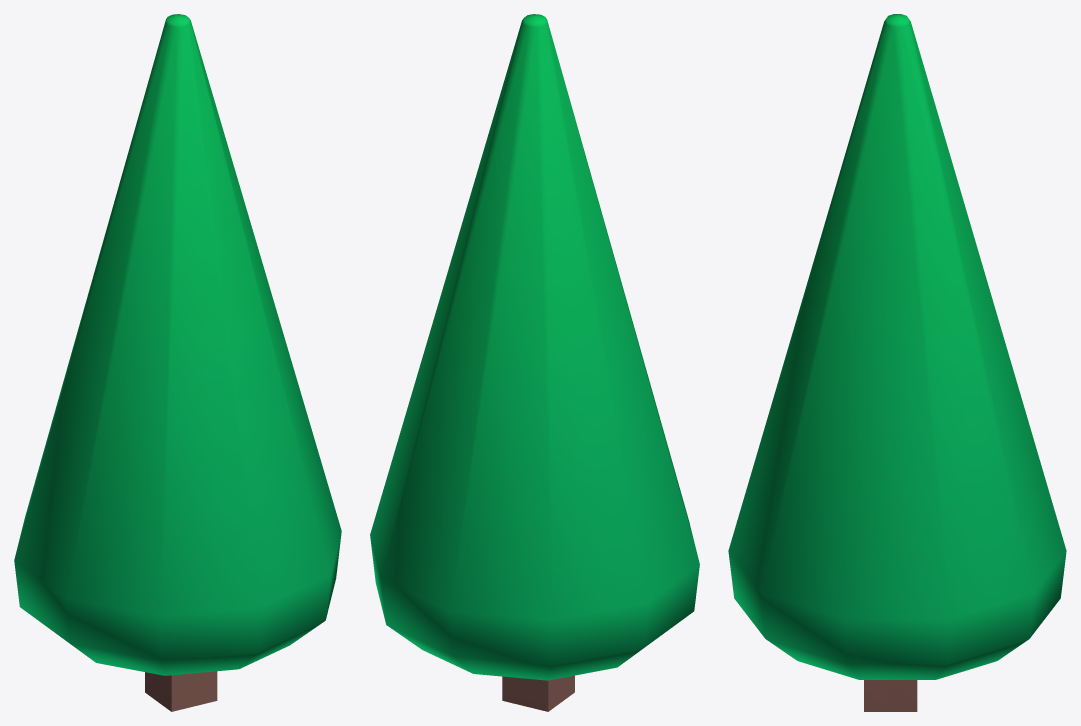
File: Three3.fbx
3 renders of one model, left to right at view 1: azimuth 30°, elevation 25°; view 2: azimuth 150°, elevation 25°; view 3: azimuth 270°, elevation 25°, orthographic.
Parts seen in each view (by area): view 1: Three3; view 2: Three3; view 3: Three3.
Boxes of the visible parts, left/top/right/bottom form: Three3: left=14, top=14, right=341, bottom=711; Three3: left=370, top=14, right=699, bottom=711; Three3: left=728, top=14, right=1066, bottom=711.
Size of the model in its own units: 0.9275 by 2.18 by 0.9752.
